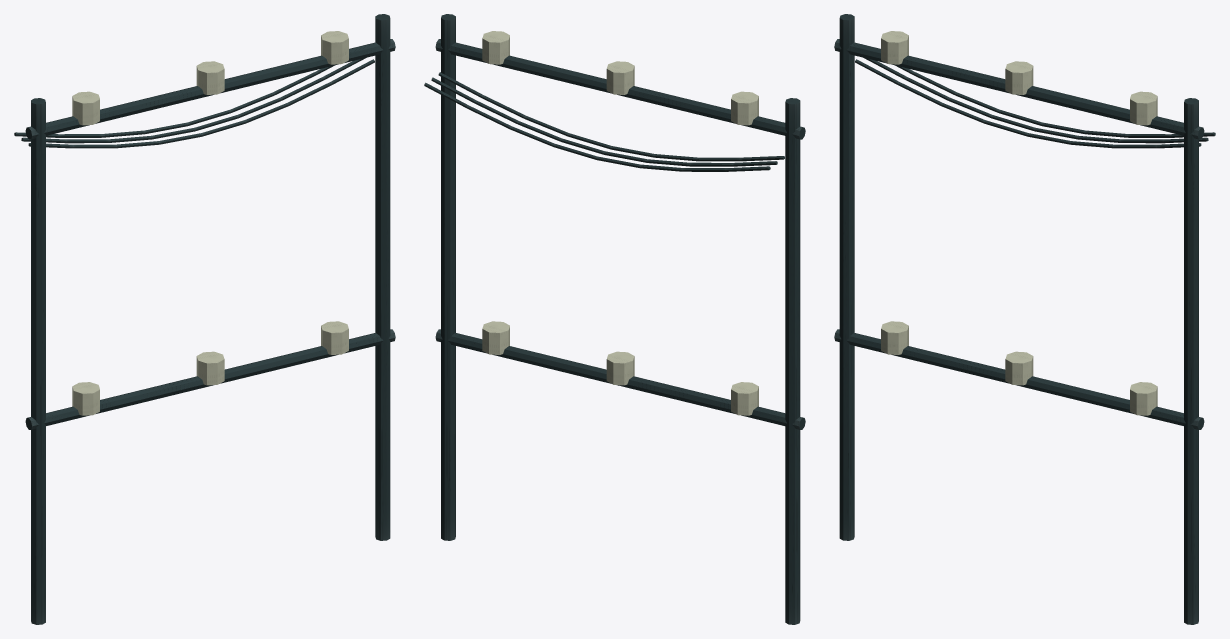
Rendered from utility_rack.fbx.
3 renders of one model, left to right at view 1: azimuth 30°, elevation 25°; view 2: azimuth 150°, elevation 25°; view 3: azimuth 330°, elevation 25°, orthographic.
Parts seen in each view (by area): view 1: utility_rack__stanchion.001, utility_rack__stanchion, utility_rack__crossbar.001, utility_rack__crossbar, utility_rack__insulator.004, utility_rack__insulator.001, utility_rack__insulator, utility_rack__insulator.002, utility_rack__insulator.005, utility_rack__insulator.003; view 2: utility_rack__stanchion, utility_rack__stanchion.001, utility_rack__crossbar.001, utility_rack__crossbar, utility_rack__insulator.001, utility_rack__insulator.004, utility_rack__insulator, utility_rack__insulator.005, utility_rack__insulator.002, utility_rack__insulator.003; view 3: utility_rack__stanchion, utility_rack__stanchion.001, utility_rack__crossbar.001, utility_rack__crossbar, utility_rack__insulator.004, utility_rack__insulator.001, utility_rack__insulator.002, utility_rack__insulator, utility_rack__insulator.003, utility_rack__insulator.005.
Part boxes in pixels (box(x1,y1,x2,y2)): utility_rack__stanchion.001: box(375, 14, 390, 540); utility_rack__stanchion: box(31, 98, 45, 624); utility_rack__crossbar.001: box(25, 39, 395, 139); utility_rack__crossbar: box(25, 329, 395, 429); utility_rack__insulator.004: box(196, 61, 224, 94); utility_rack__insulator.001: box(196, 351, 224, 385); utility_rack__insulator: box(72, 382, 99, 415); utility_rack__insulator.002: box(321, 321, 348, 354); utility_rack__insulator.005: box(321, 31, 348, 64); utility_rack__insulator.003: box(72, 91, 99, 125); utility_rack__stanchion: box(785, 98, 800, 624); utility_rack__stanchion.001: box(441, 14, 455, 540); utility_rack__crossbar.001: box(435, 39, 805, 139); utility_rack__crossbar: box(435, 329, 805, 429); utility_rack__insulator.001: box(606, 351, 634, 385); utility_rack__insulator.004: box(606, 61, 634, 94); utility_rack__insulator: box(731, 382, 758, 415); utility_rack__insulator.005: box(482, 31, 509, 64); utility_rack__insulator.002: box(482, 321, 509, 354); utility_rack__insulator.003: box(731, 91, 758, 125); utility_rack__stanchion: box(839, 14, 854, 540); utility_rack__stanchion.001: box(1184, 98, 1198, 624); utility_rack__crossbar.001: box(834, 39, 1204, 139); utility_rack__crossbar: box(834, 329, 1204, 429); utility_rack__insulator.004: box(1005, 61, 1033, 94); utility_rack__insulator.001: box(1005, 351, 1033, 385); utility_rack__insulator.002: box(1130, 382, 1157, 415); utility_rack__insulator: box(881, 321, 908, 354); utility_rack__insulator.003: box(881, 31, 908, 64); utility_rack__insulator.005: box(1130, 91, 1157, 125).
Bounding box in the file's own units: 380 × 520 × 56.71.
2 materials, 2 textured.
